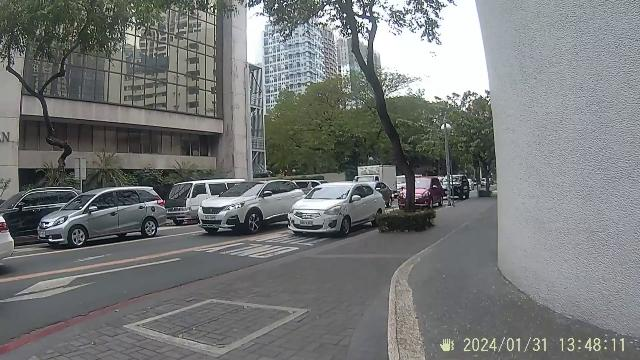car: (16, 180, 337, 248)
tree: (338, 4, 446, 240)
